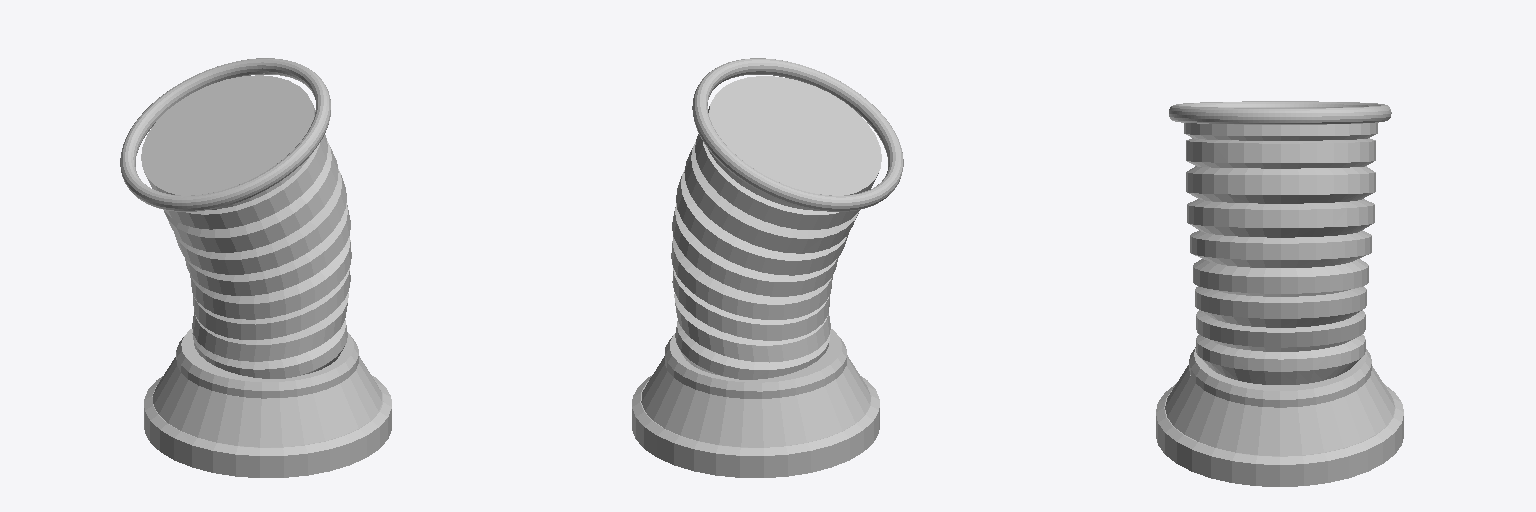
The model's file is pata_trasera.obj.
3 views of the same model, side by side, from view 1: azimuth 30°, elevation 25°; view 2: azimuth 150°, elevation 25°; view 3: azimuth 270°, elevation 25° (orthographic).
Parts seen in each view (by area): view 1: m_inferior010, m_inferior023, m_inferior024, m_inferior007, m_inferior022; view 2: m_inferior010, m_inferior023, m_inferior024, m_inferior007, m_inferior022; view 3: m_inferior010, m_inferior023, m_inferior024, m_inferior007, m_inferior022.
Part boxes in pixels (left/top/right/bottom): m_inferior010: left=141, top=75, right=351, bottom=378; m_inferior023: left=153, top=356, right=381, bottom=447; m_inferior024: left=144, top=376, right=391, bottom=477; m_inferior007: left=120, top=58, right=330, bottom=211; m_inferior022: left=176, top=329, right=358, bottom=398; m_inferior010: left=671, top=76, right=881, bottom=379; m_inferior023: left=641, top=355, right=870, bottom=447; m_inferior024: left=632, top=376, right=879, bottom=477; m_inferior007: left=692, top=58, right=903, bottom=211; m_inferior022: left=665, top=329, right=846, bottom=398; m_inferior010: left=1184, top=123, right=1377, bottom=384; m_inferior023: left=1165, top=365, right=1394, bottom=455; m_inferior024: left=1156, top=383, right=1403, bottom=486; m_inferior007: left=1169, top=101, right=1391, bottom=124; m_inferior022: left=1189, top=347, right=1371, bottom=407.
Bounding box in the file's own units: 1.14 × 1.58 × 1.03.